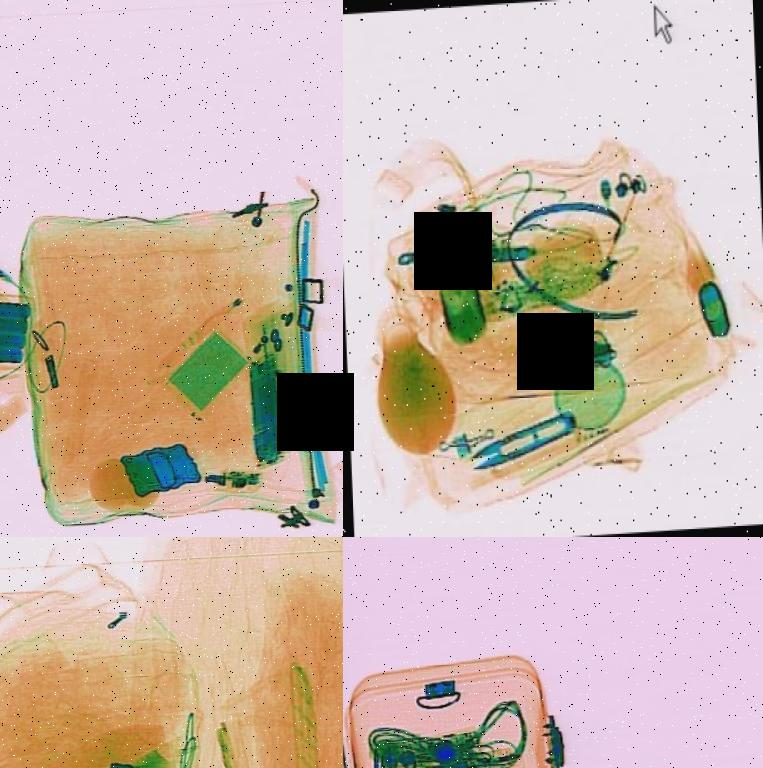Scissors: (462, 402, 578, 475)
